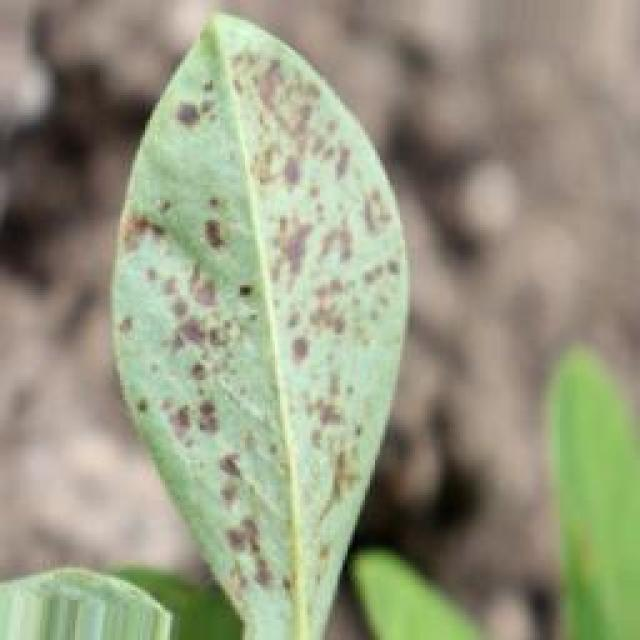Whitefly: (113, 4, 403, 608)
